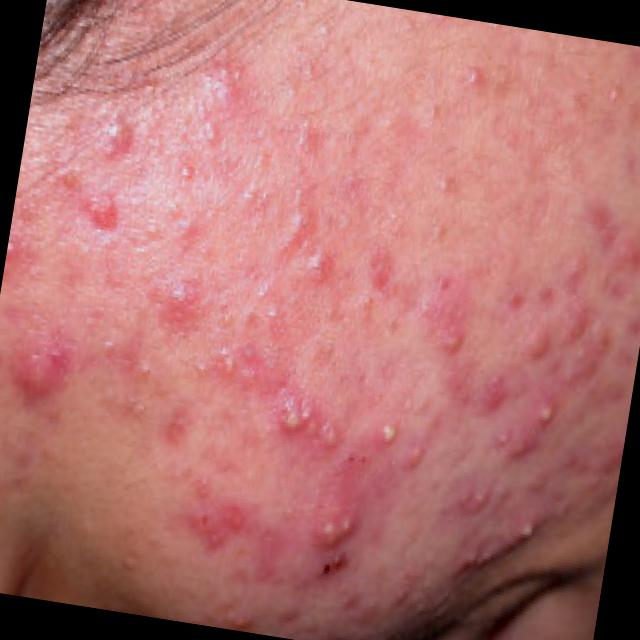nodule: (10, 349, 60, 403)
